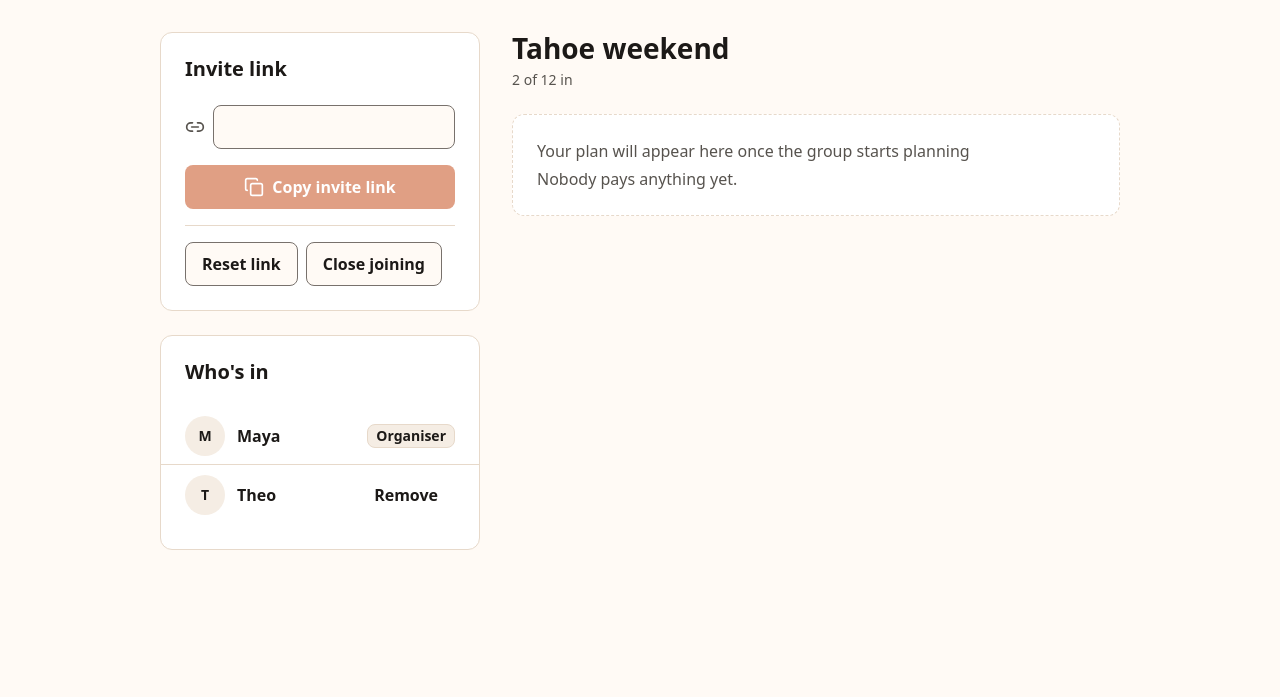
Test case: TripPage membership controls › removes a member after an inline confirm and explains it sticks
The width and height of the screenshot is (1280, 697).
Click the button with aria-label "Remove Theo": (406, 495) [357,473,455,517]
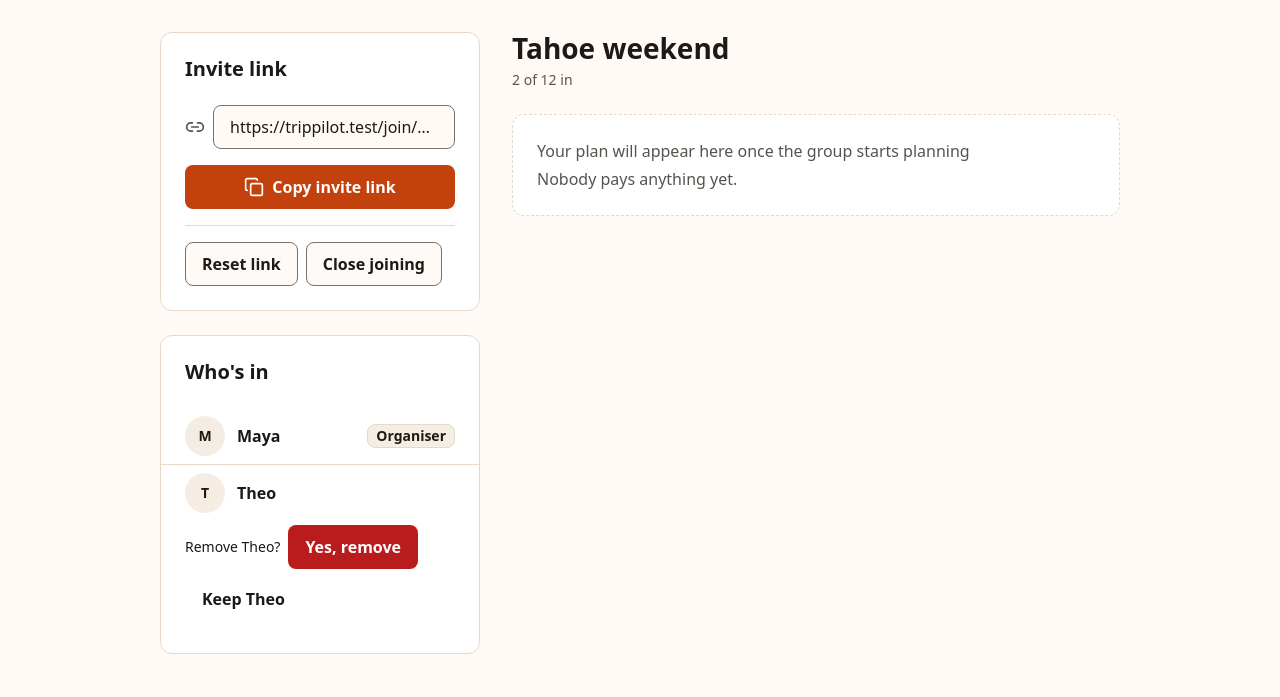
Result: the text "Remove Theo?" is shown at [185,537,280,557]
Click the button "Yes, remove": (353, 547) [288,525,418,569]
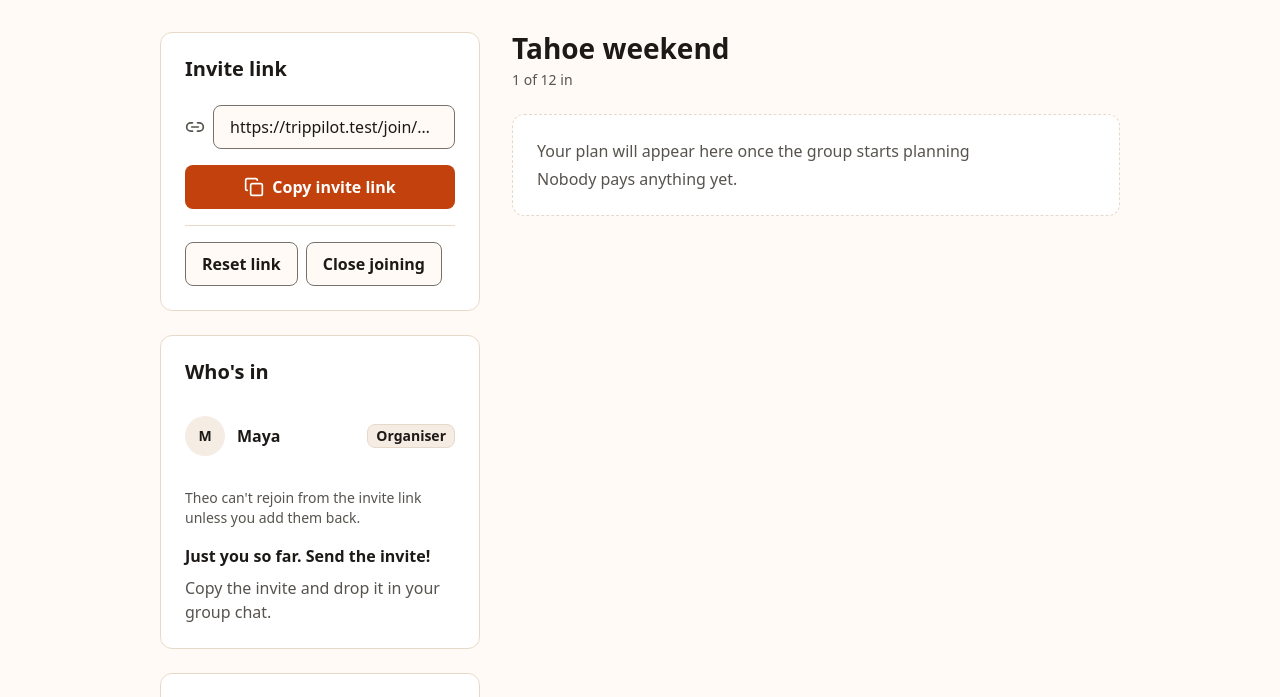
Result: the text "Theo can't rejoin from the invite link unless you add them back." is shown at [185,488,455,528]
Result: the text "1 of 12 in" is shown at [512,70,572,89]
